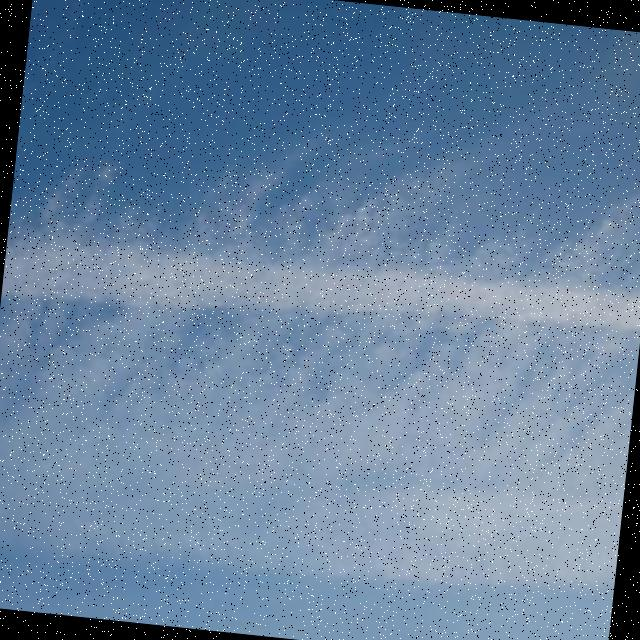Ct: (1, 21, 640, 491)
